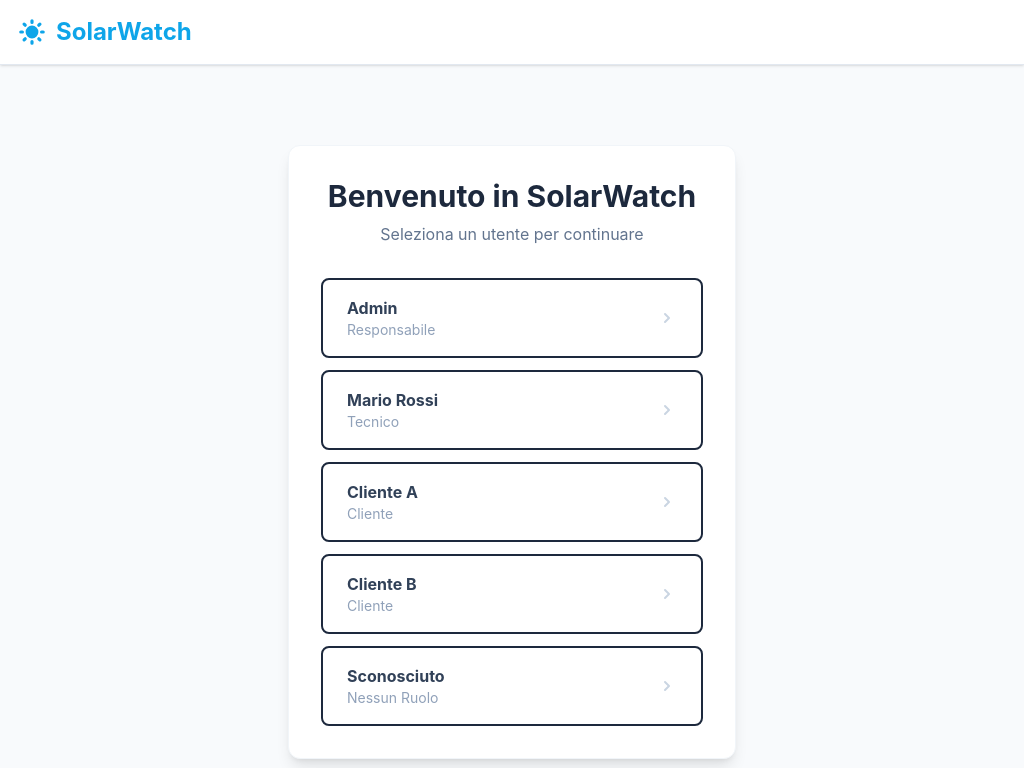
Gestione Impianti › [POSITIVO] Il cliente vede ancora l'impianto mentre è sulla dashboard dopo la rimozione admin
Click the button with test id "login-user-3" at (382, 492), box top-left (321, 462), bottom-right (703, 542)
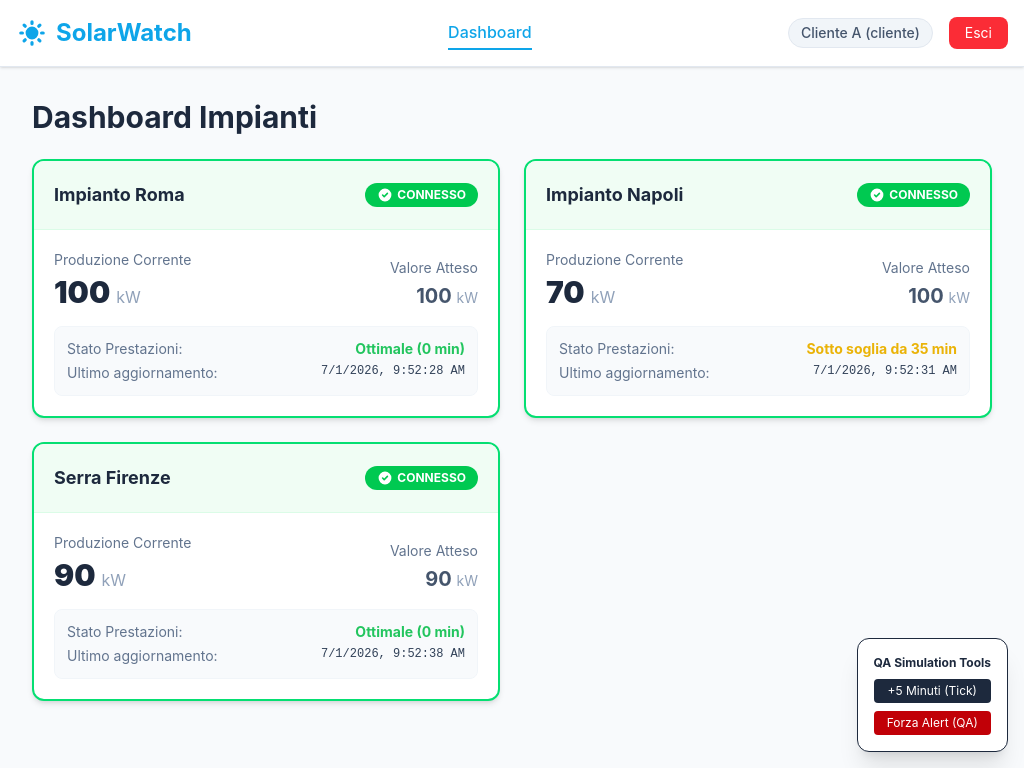
Now the element with test id "plant-card-101" is shown, box top-left (32, 159), bottom-right (500, 418)
